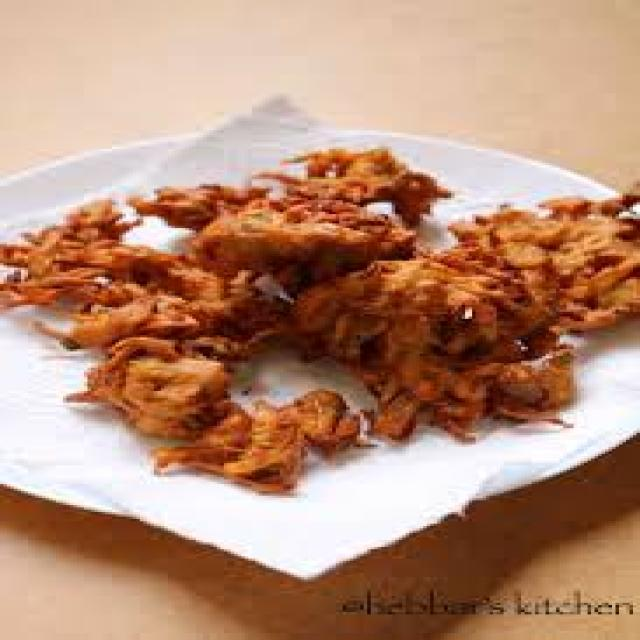BAJI: (0, 149, 637, 491)
